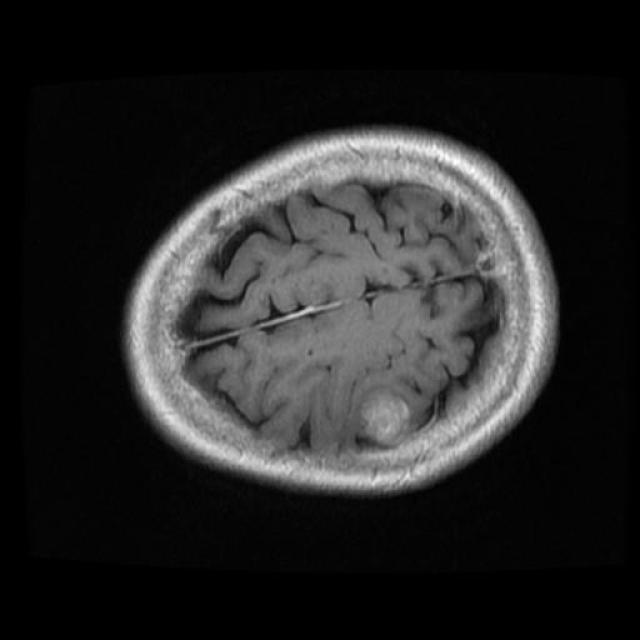Meningioma: (360, 391, 411, 443)
